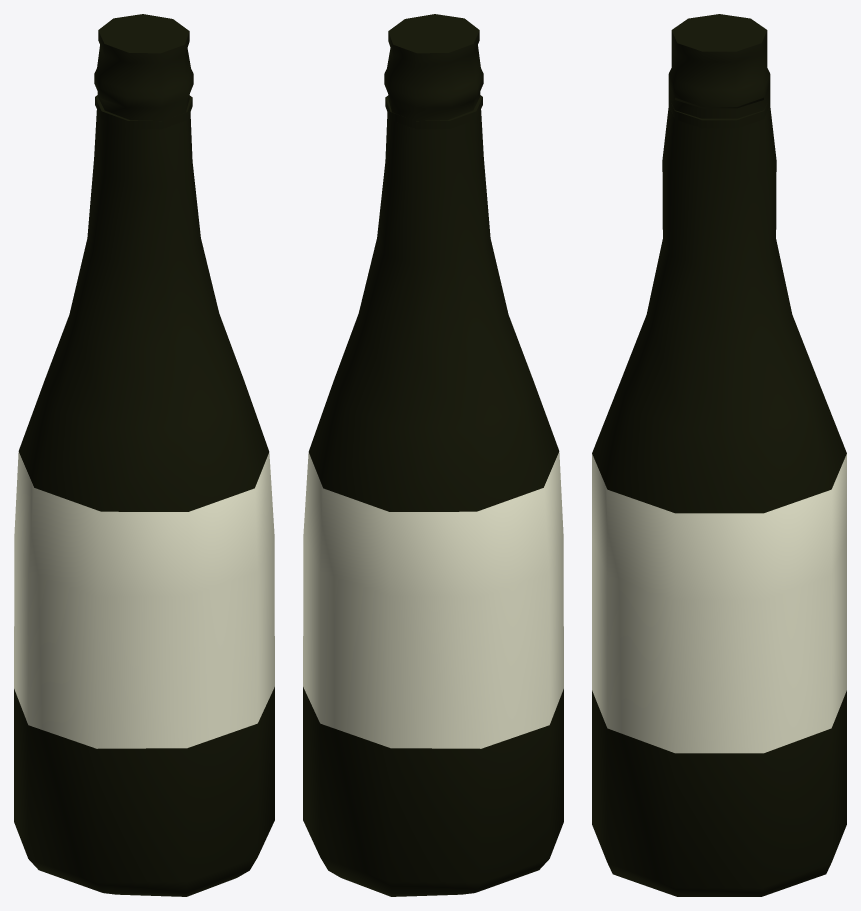
Rendered from Wine.fbx.
3 renders of one model, left to right at view 1: azimuth 30°, elevation 25°; view 2: azimuth 150°, elevation 25°; view 3: azimuth 270°, elevation 25°, orthographic.
Parts seen in each view (by area): view 1: Cylinder002; view 2: Cylinder002; view 3: Cylinder002.
Boxes of the visible parts, bbox=[...] form: Cylinder002: bbox=[14, 14, 274, 896]; Cylinder002: bbox=[303, 14, 563, 896]; Cylinder002: bbox=[592, 14, 846, 896].
Size of the model in its own units: 18.84 by 65.48 by 18.41.
